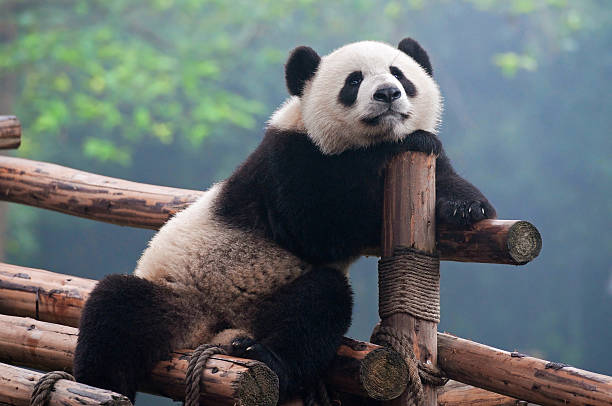panda: (258, 18, 476, 180)
